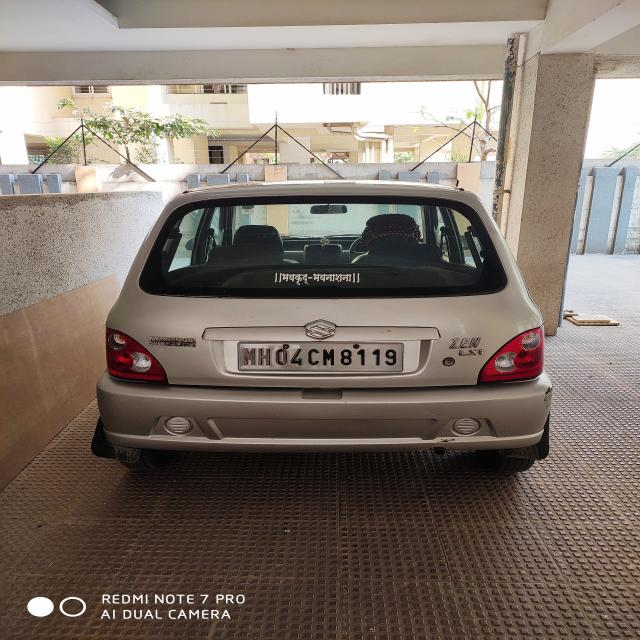Number-Plate: (234, 342, 407, 372)
